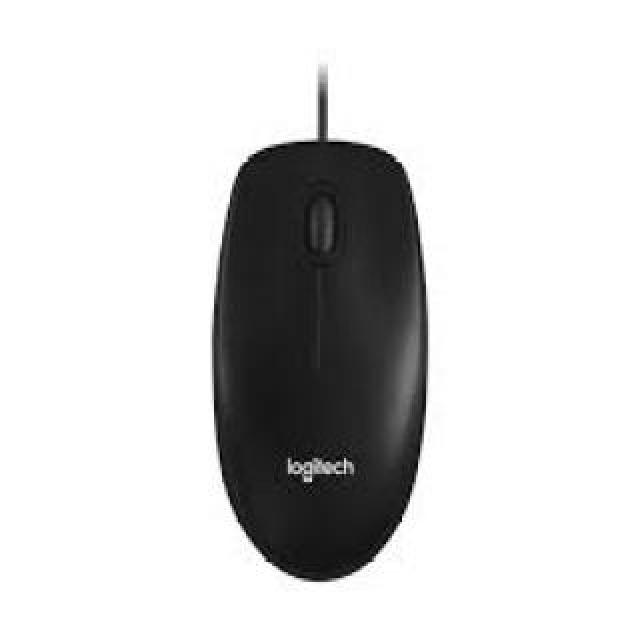mouse: (181, 130, 458, 574)
